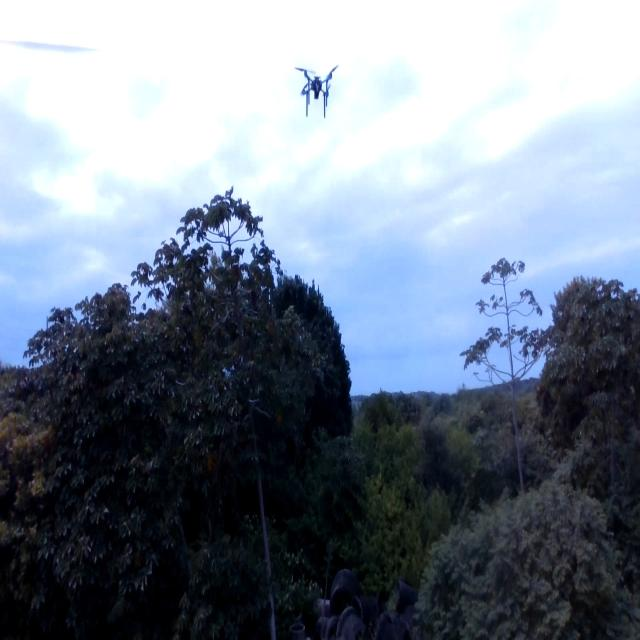-uav-: (288, 58, 344, 127)
